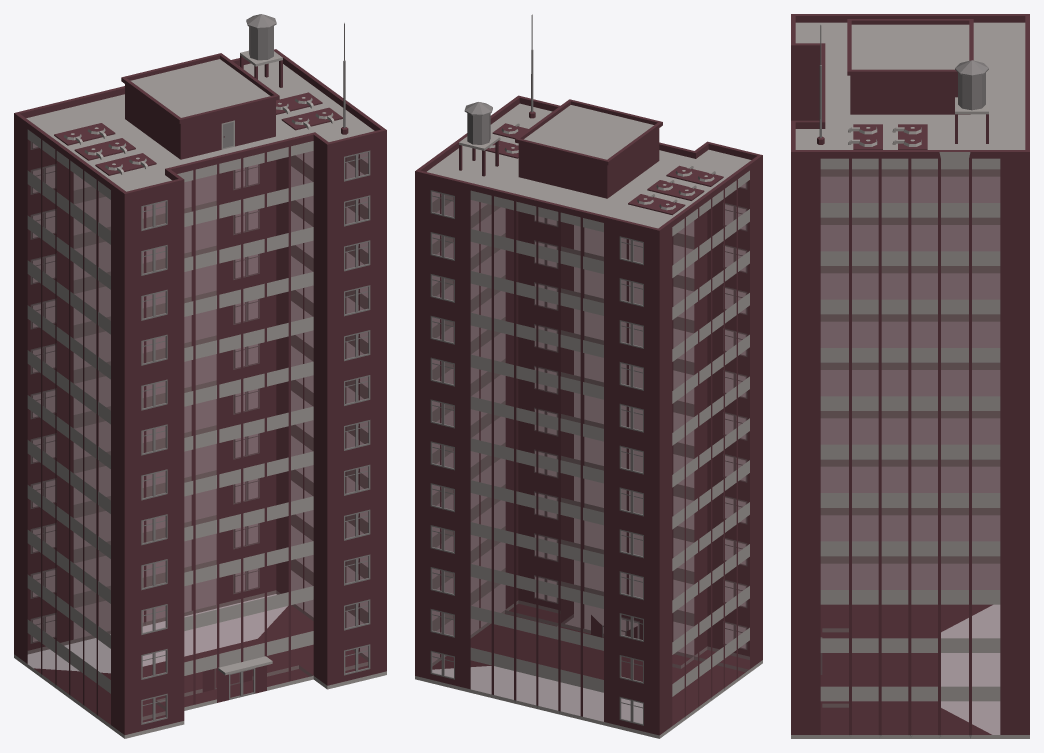
File: building-office-big.fbx
The picture shows the model from 3 angles, left to right: view 1: azimuth 30°, elevation 25°; view 2: azimuth 150°, elevation 25°; view 3: azimuth 270°, elevation 25°; orthographic projection. The views are drawn at different scales.
Visible parts, largest first — view 1: building-office-big; view 2: building-office-big; view 3: building-office-big.
Boxes of the visible parts, left/top/right/bottom form: building-office-big: left=14, top=14, right=386, bottom=738; building-office-big: left=415, top=14, right=762, bottom=738; building-office-big: left=791, top=14, right=1029, bottom=738.
Size of the model in its own units: 22 by 52.08 by 16.1.
